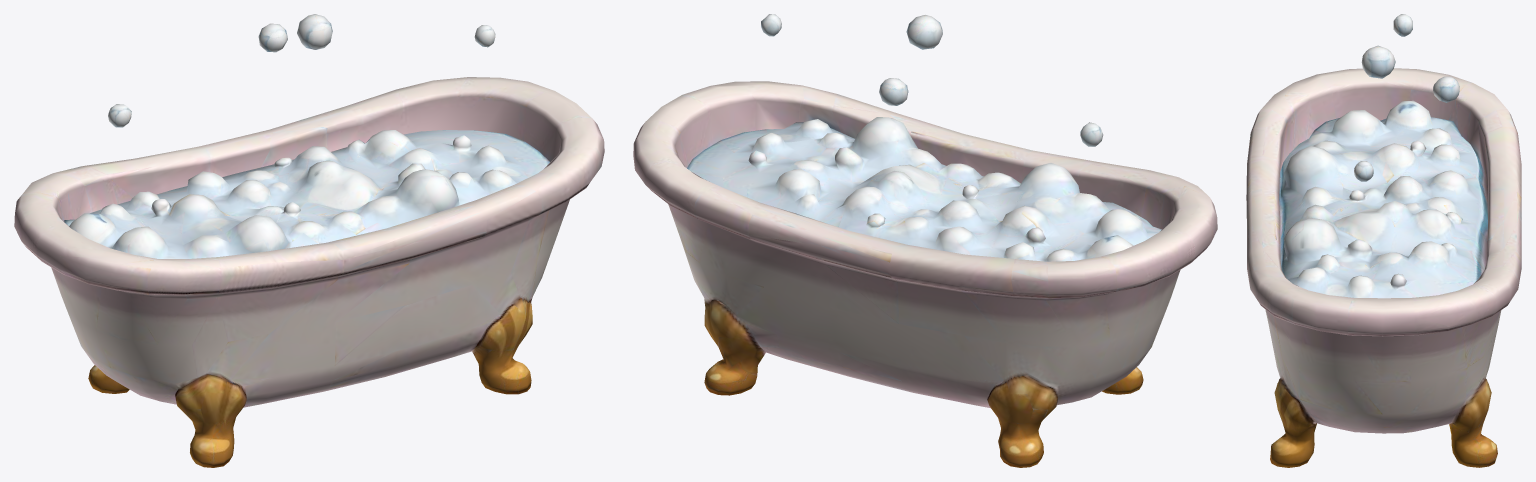
Rendered from item-bathtub.glb.
3 renders of one model, left to right at view 1: azimuth 30°, elevation 25°; view 2: azimuth 150°, elevation 25°; view 3: azimuth 270°, elevation 25°, orthographic. The views are drawn at different scales.
Size of the model in its own units: 0.9575 by 0.6245 by 0.4497.
Materials: 1 (1 with a texture image).
